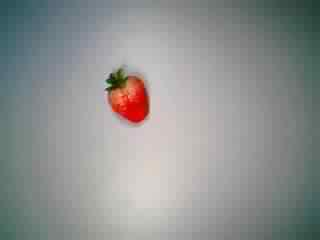strawberry: (93, 65, 159, 127)
